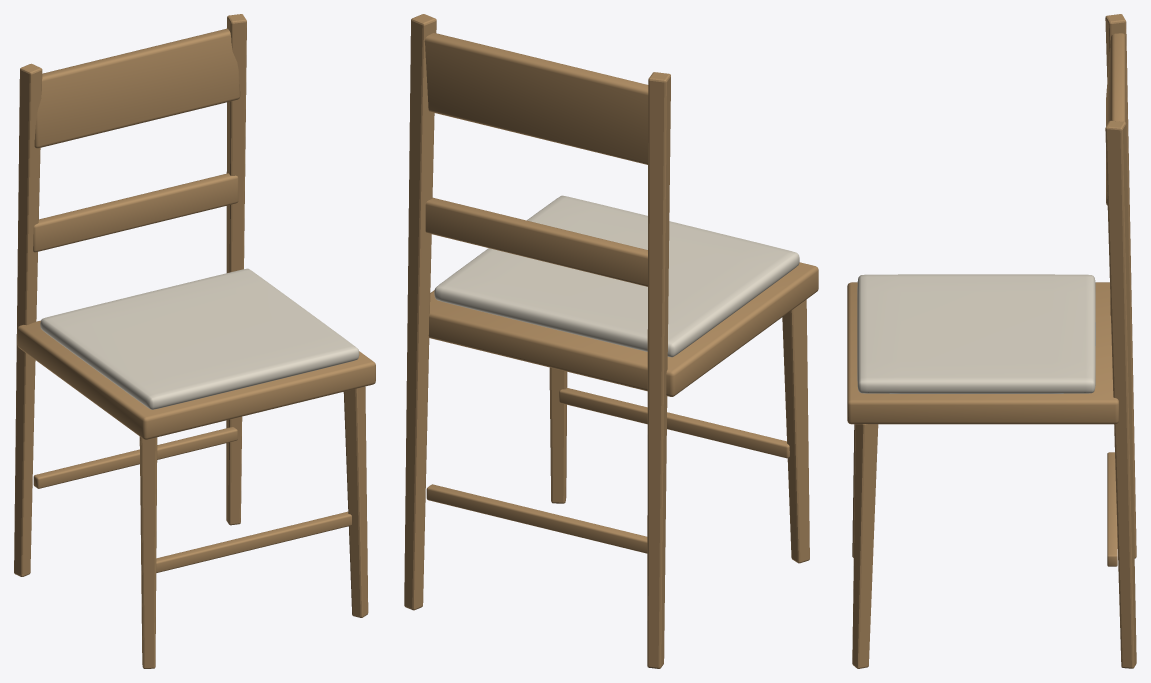
Rendered from silla.glb.
The picture shows the model from 3 angles, left to right: view 1: azimuth 30°, elevation 25°; view 2: azimuth 150°, elevation 25°; view 3: azimuth 270°, elevation 25°; orthographic projection. The views are drawn at different scales.
Visible parts, largest first — view 1: Cojín, Respaldo alto, Asiento.003, Pata trasera, Respaldo bajo, Pata trasera.001, Pata delantera.001, Pata delantera, Travesaño, Travesaño.001; view 2: Cojín, Respaldo alto, Asiento.003, Pata trasera.001, Pata trasera, Respaldo bajo, Pata delantera, Travesaño.001, Travesaño, Pata delantera.001; view 3: Cojín, Asiento.003, Pata trasera.001, Pata delantera.001, Pata trasera, Respaldo alto, Travesaño.001.
Boxes of the visible parts, <box> form: Cojín: <box>40,268,359,409</box>; Respaldo alto: <box>34,28,240,148</box>; Asiento.003: <box>17,320,375,439</box>; Pata trasera: <box>14,63,42,576</box>; Respaldo bajo: <box>33,173,238,252</box>; Pata trasera.001: <box>226,14,246,525</box>; Pata delantera.001: <box>343,386,368,617</box>; Pata delantera: <box>139,436,157,668</box>; Travesaño: <box>156,511,351,572</box>; Travesaño.001: <box>33,427,237,488</box>; Cojín: <box>434,195,799,357</box>; Respaldo alto: <box>424,33,648,164</box>; Asiento.003: <box>428,262,818,396</box>; Pata trasera.001: <box>404,14,436,610</box>; Pata trasera: <box>647,72,670,668</box>; Respaldo bajo: <box>425,197,647,286</box>; Pata delantera: <box>782,299,809,563</box>; Travesaño.001: <box>426,484,647,553</box>; Travesaño: <box>559,388,789,458</box>; Pata delantera.001: <box>549,367,567,503</box>; Cojín: <box>857,274,1095,393</box>; Asiento.003: <box>847,282,1118,424</box>; Pata trasera.001: <box>1105,120,1136,668</box>; Pata delantera.001: <box>852,424,878,668</box>; Pata trasera: <box>1105,14,1136,558</box>; Respaldo alto: <box>1106,33,1125,205</box>; Travesaño.001: <box>1107,452,1117,566</box>.
Bounding box in the file's own units: 0.43 × 0.9004 × 0.4366.
